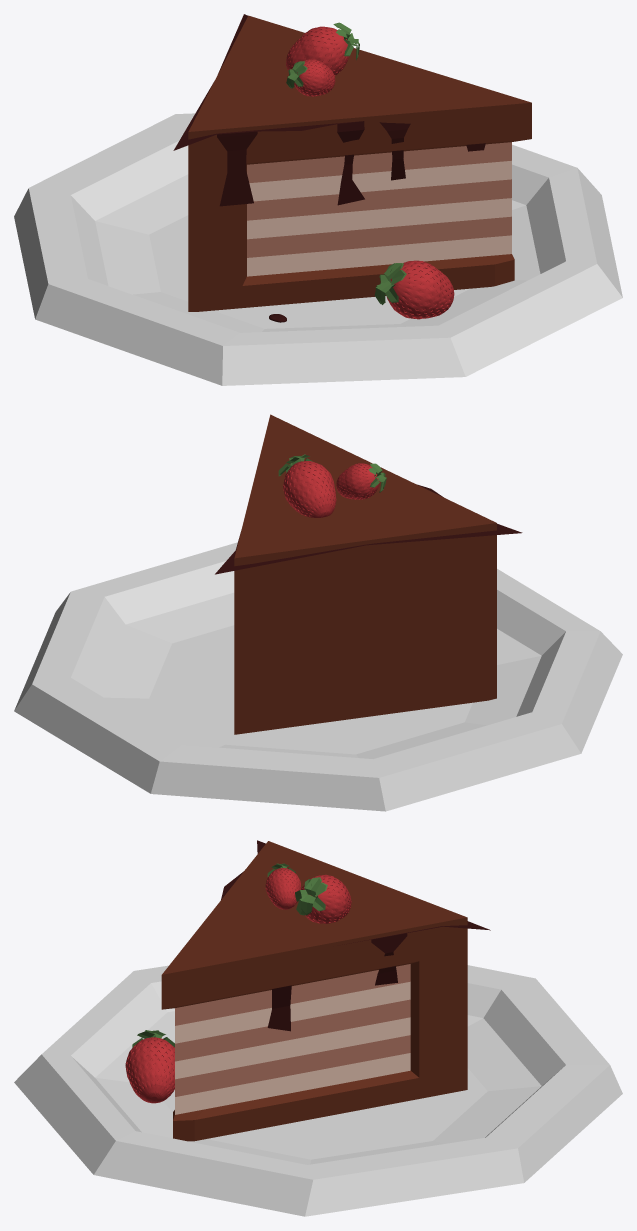
Rendered from cake2.glb.
The picture shows the model from 3 angles, top to bottom: view 1: azimuth 30°, elevation 25°; view 2: azimuth 150°, elevation 25°; view 3: azimuth 270°, elevation 25°; orthographic projection. The views are drawn at different scales.
Parts seen in each view (by area): view 1: plate, cake, Plane, strawberry, strawberry.001, strawberry.002, leaves; view 2: plate, cake, strawberry.001, Plane, strawberry.002; view 3: plate, cake, strawberry, Plane, strawberry.001, strawberry.002, leaves.001.
Part boxes in pixels (x1=…): plate: x1=14, y1=113, x2=622, y2=385; cake: x1=188, y1=15, x2=531, y2=311; Plane: x1=173, y1=14, x2=485, y2=206; strawberry: x1=386, y1=260, x2=454, y2=319; strawberry.001: x1=286, y1=26, x2=349, y2=75; strawberry.002: x1=294, y1=59, x2=335, y2=96; leaves: x1=374, y1=263, x2=406, y2=304; plate: x1=14, y1=542, x2=622, y2=811; cake: x1=234, y1=414, x2=496, y2=734; strawberry.001: x1=283, y1=461, x2=336, y2=517; Plane: x1=215, y1=484, x2=522, y2=574; strawberry.002: x1=336, y1=463, x2=379, y2=499; plate: x1=14, y1=965, x2=622, y2=1216; cake: x1=161, y1=841, x2=467, y2=1141; strawberry: x1=125, y1=1037, x2=174, y2=1103; Plane: x1=221, y1=840, x2=490, y2=1031; strawberry.001: x1=301, y1=874, x2=351, y2=923; strawberry.002: x1=265, y1=868, x2=300, y2=909; leaves.001: x1=295, y1=877, x2=327, y2=915.
Bounding box in the file's own units: 1.83 × 0.8843 × 1.83.
